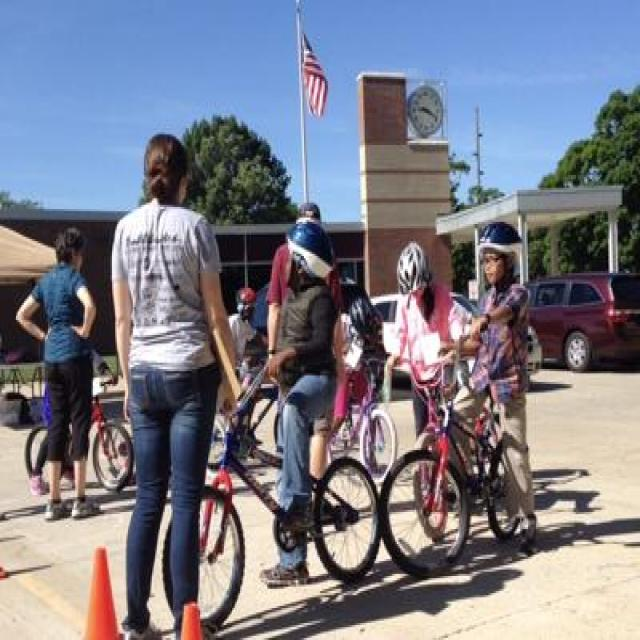Helmet: (472, 211, 534, 301), (285, 220, 334, 290)
